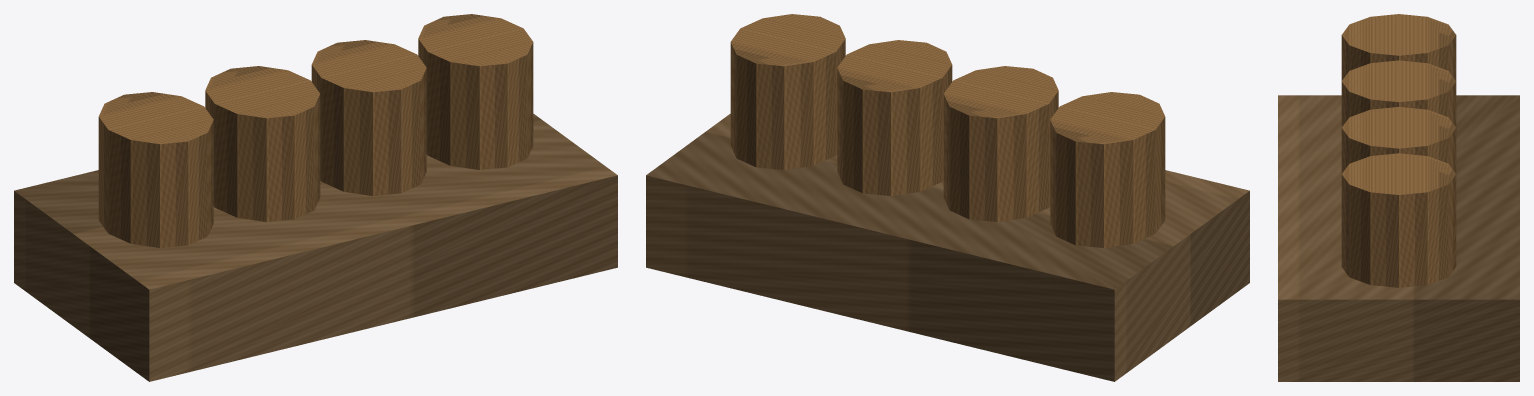
The model's file is earthwork.glb.
3 views of the same model, side by side, from view 1: azimuth 30°, elevation 25°; view 2: azimuth 150°, elevation 25°; view 3: azimuth 270°, elevation 25° (orthographic). The views are drawn at different scales.
Parts seen in each view (by area): view 1: Cube; view 2: Cube; view 3: Cube.
Part boxes in pixels (x1,y1,x2,y2): Cube: [14, 14, 617, 381]; Cube: [646, 14, 1249, 381]; Cube: [1278, 14, 1519, 381].
Size of the model in its own units: 0.9 by 0.36 by 0.45.
1 material, 1 textured.
